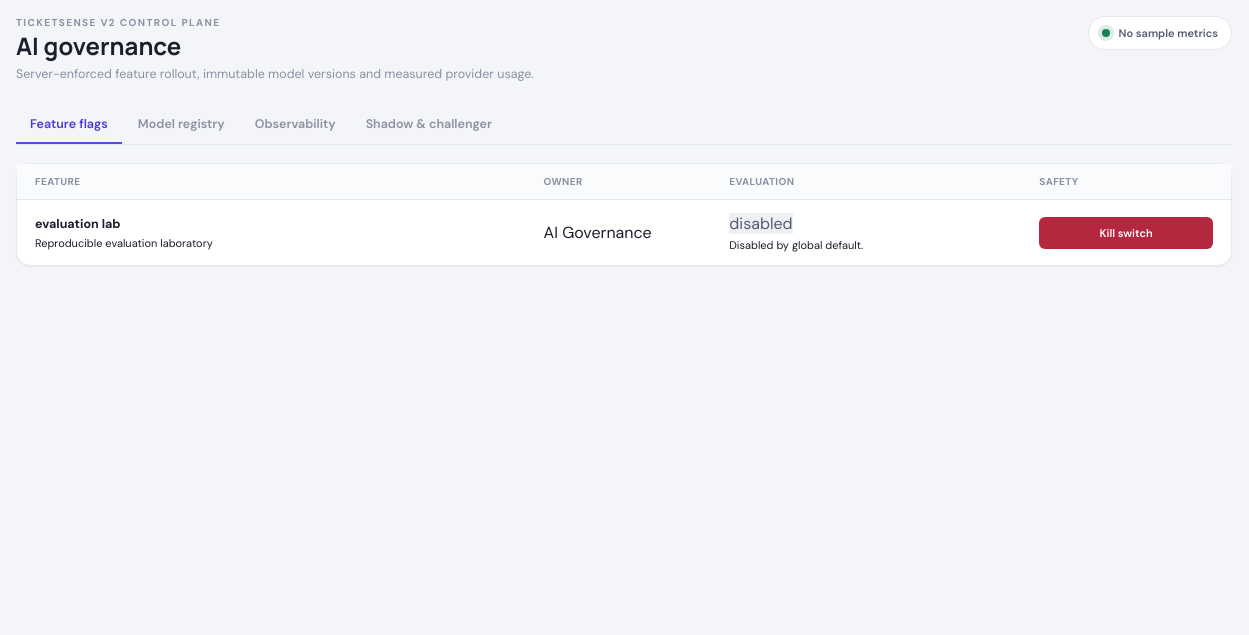
V2 AI governance › shows real champion/challenger comparison stats, never fabricated ones
Click the tab "Shadow & challenger". click: point(429, 125)
box: x1=352 y1=106 x2=506 y2=144
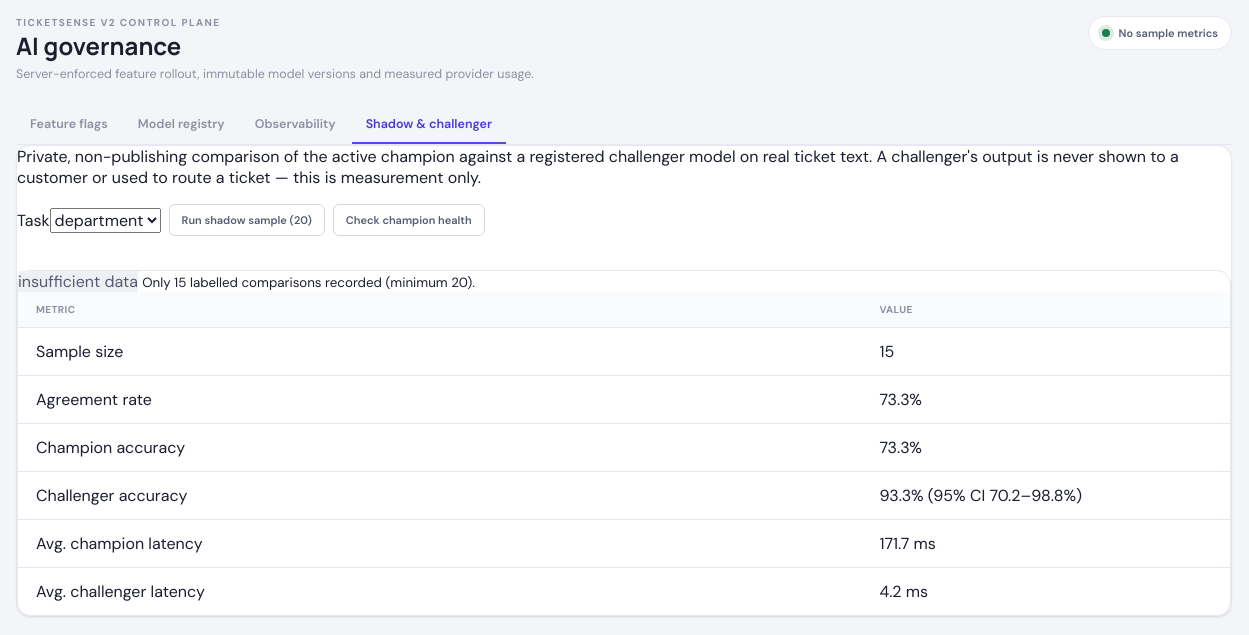
Now the text "insufficient data" is shown, box x1=18 y1=271 x2=138 y2=292
Now the text "Only 15 labelled comparisons recorded (minimum 20)." is shown, box x1=142 y1=274 x2=475 y2=291
Now the text "93.3% (95% CI 70.2–98.8%)" is shown, box x1=879 y1=485 x2=1082 y2=506
